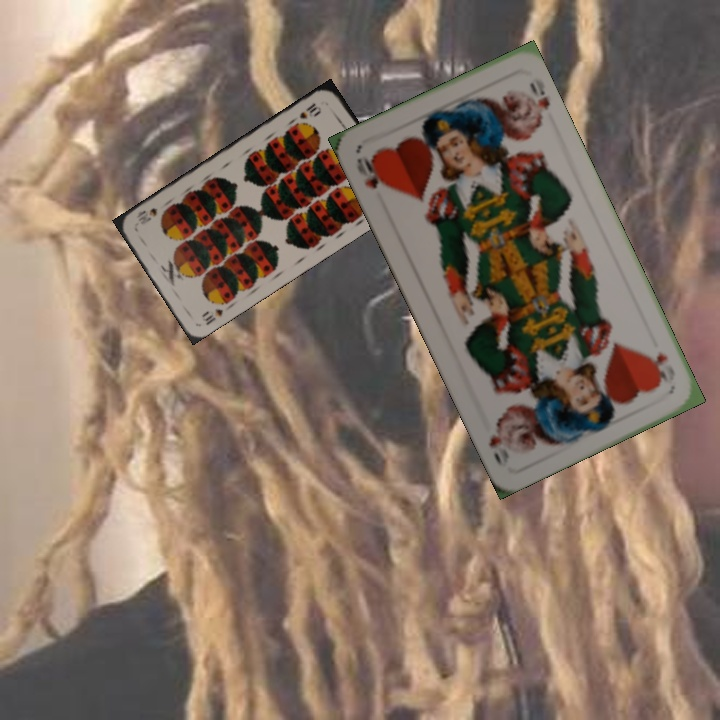HO: (352, 151, 389, 192), (644, 347, 674, 387)
S10: (295, 99, 324, 122), (198, 304, 225, 328)
